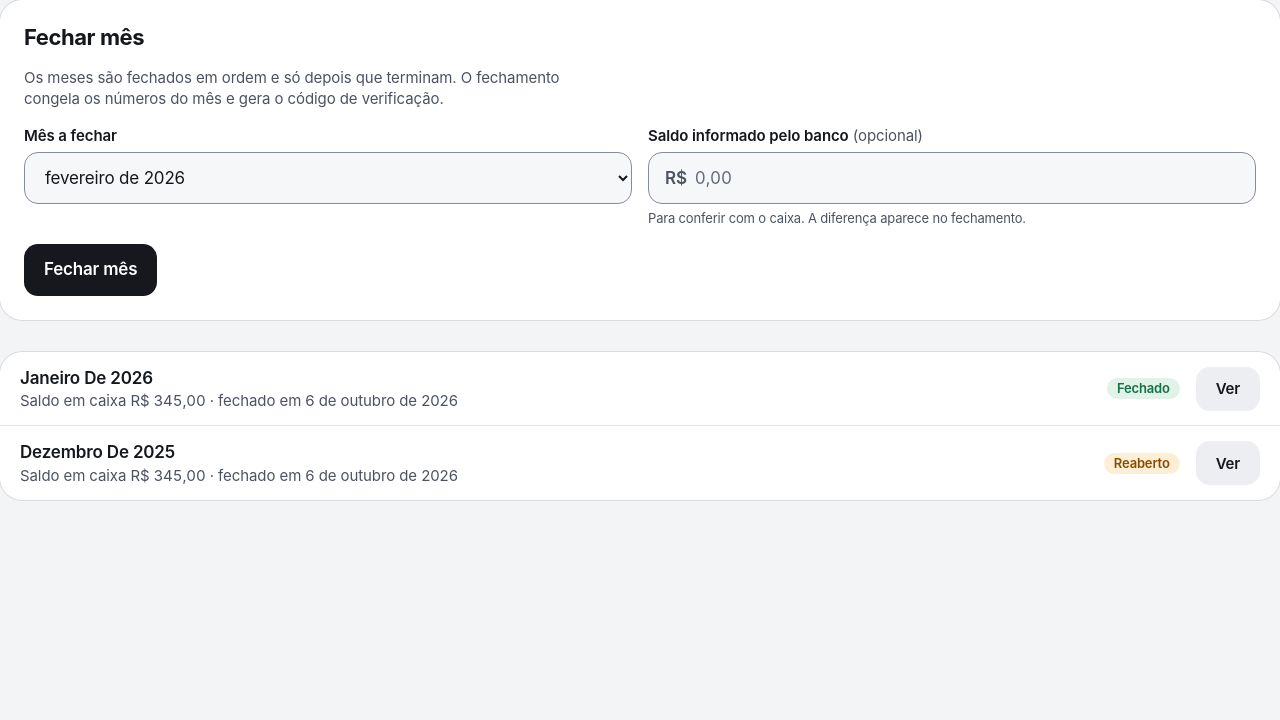
Test: lista e detalhe › detalhe: os DOIS saldos, entradas e saidas, diferenca do banco e o codigo de verificacao
The image size is (1280, 720).
Click the button with aria-label "Abrir o fechamento de janeiro de 2026": {"x": 1228, "y": 389} [1196,367,1260,411]
(page scrolled)
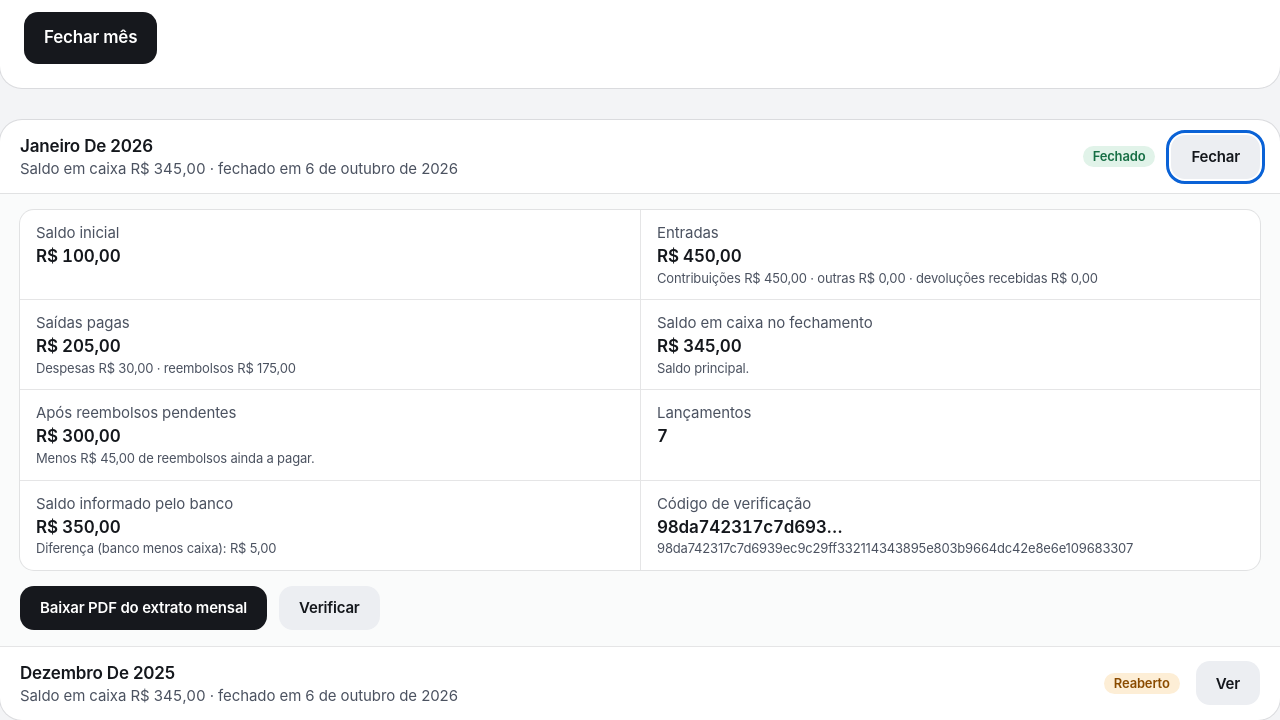
Expected: the element with test id "closing-detail" shows "Saldo inicial", [36,223,119,242]
Expected: the element with test id "closing-detail" shows "R$ 100,00", [36,246,120,266]
Expected: the element with test id "closing-detail" shows "Saldo em caixa no fechamento", [657,313,873,332]
